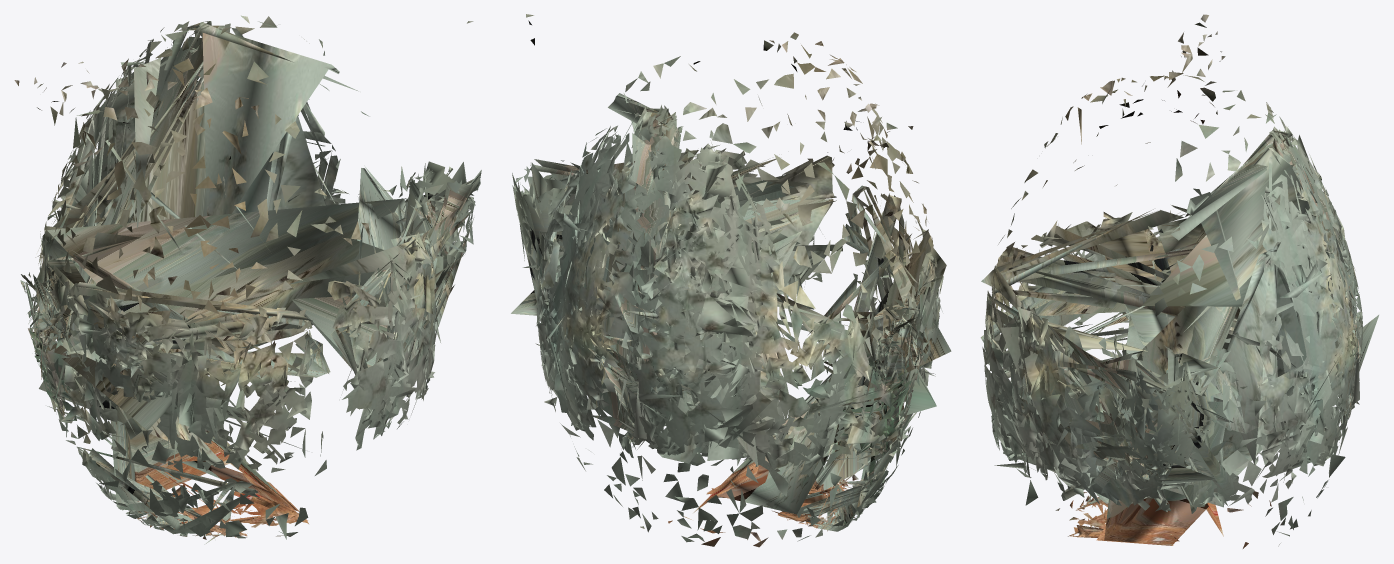
Rendered from pitcher.glb.
The picture shows the model from 3 angles, left to right: view 1: azimuth 30°, elevation 25°; view 2: azimuth 150°, elevation 25°; view 3: azimuth 270°, elevation 25°; orthographic projection. The views are drawn at different scales.
Parts seen in each view (by area): view 1: Object_2; view 2: Object_2; view 3: Object_2.
Boxes of the visible parts, x1,y1,x2,y2 form: Object_2: (14,15,481,544); Object_2: (511,14,951,547); Object_2: (980,14,1378,548).
Bounding box in the file's own units: 0.1894 × 0.2041 × 0.1592.
1 material, 1 textured.
